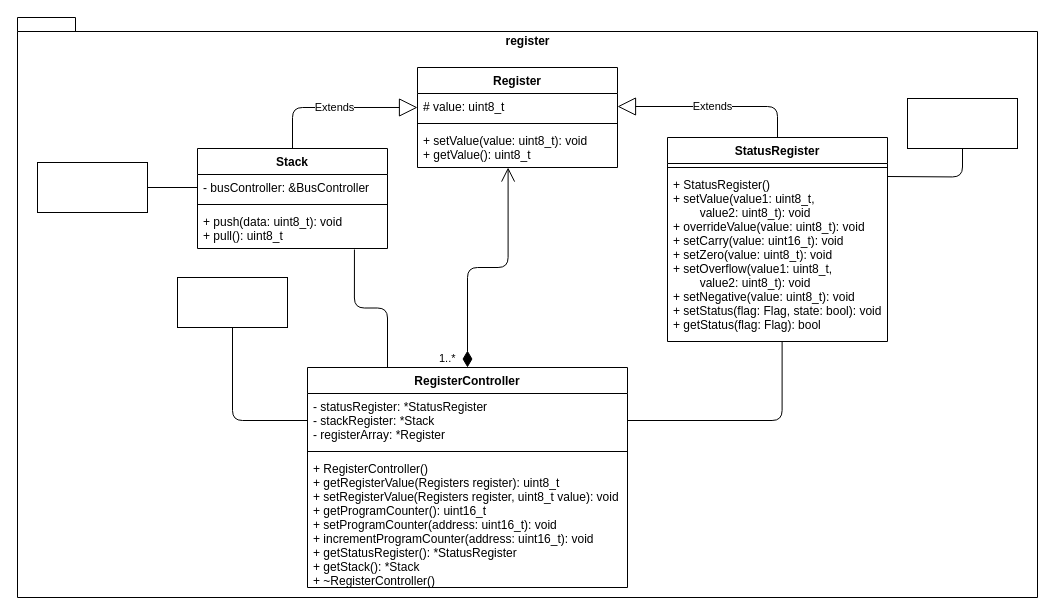
The diagram is 1055 pixels wide and 615 high, and some of its shapes have lost their labels. Each missing label, with the centre of its shape:
"«enum» Flag" goes at (962,123).
"«enum» Registers" goes at (232,302).
"«primitive» BusController" goes at (92,187).
